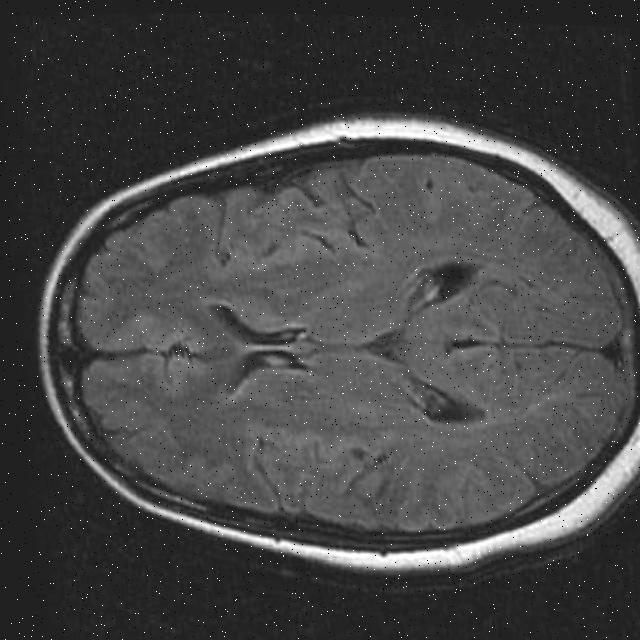NoTumor: (59, 123, 640, 560)
